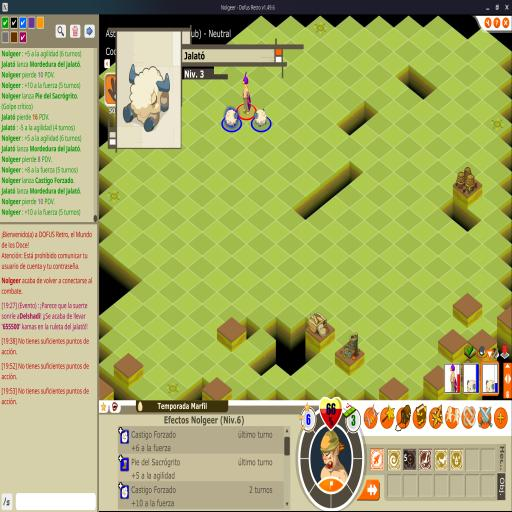Enemigos: (224, 106, 240, 128), (253, 107, 267, 128)
Personaje: (242, 71, 252, 115)
